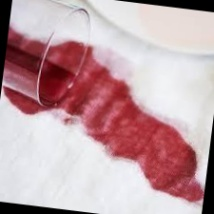wine: (101, 102, 180, 165), (68, 61, 130, 125), (155, 132, 205, 191)
